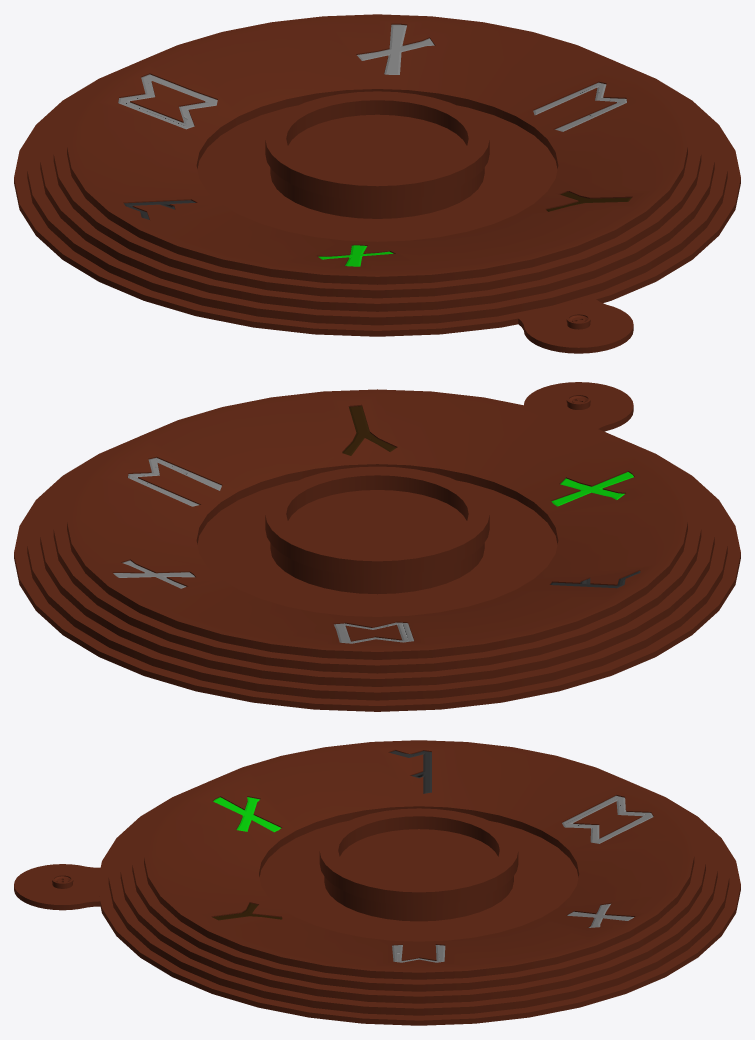
The model's file is ST_Cristal.fbx.
3 renders of one model, top to bottom at view 1: azimuth 30°, elevation 25°; view 2: azimuth 150°, elevation 25°; view 3: azimuth 270°, elevation 25°, orthographic. The views are drawn at different scales.
Parts seen in each view (by area): view 1: _Socle; view 2: _Socle; view 3: _Socle.
Boxes of the visible parts, <box> form: _Socle: <box>14,14,740,353</box>; _Socle: <box>14,382,740,711</box>; _Socle: <box>14,740,740,1025</box>.
Bounding box in the file's own units: 1660 × 112 × 1874.
